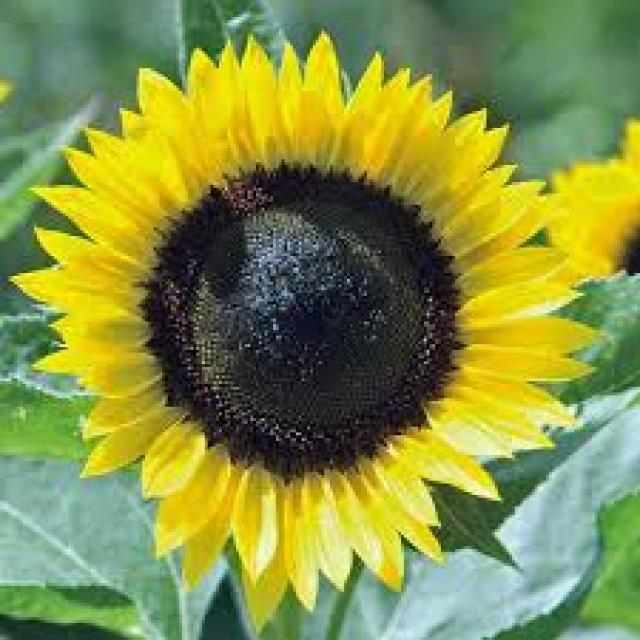sunflower: (3, 19, 612, 640), (526, 108, 640, 288)
